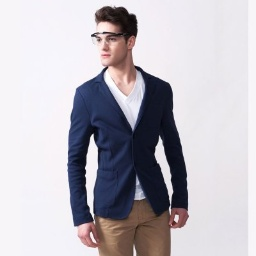face: (91, 5, 140, 69)
